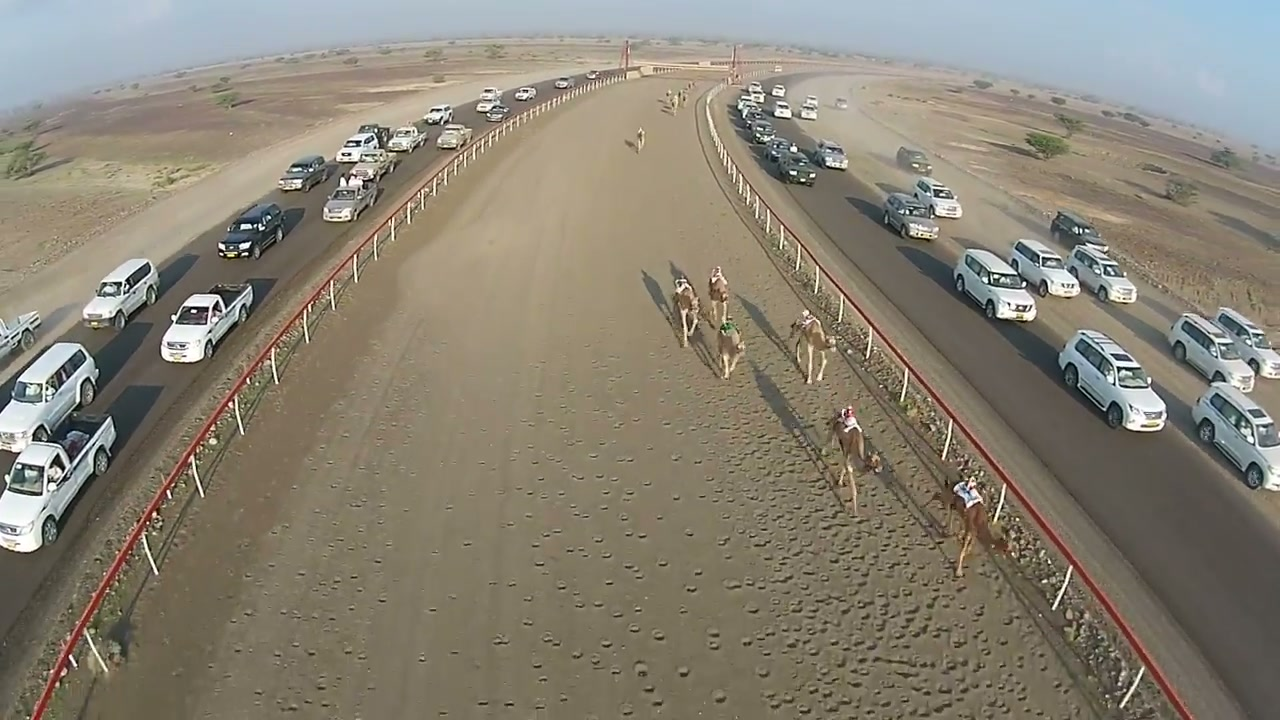animal_footprint: (524, 340, 1068, 719), (235, 524, 415, 713)
